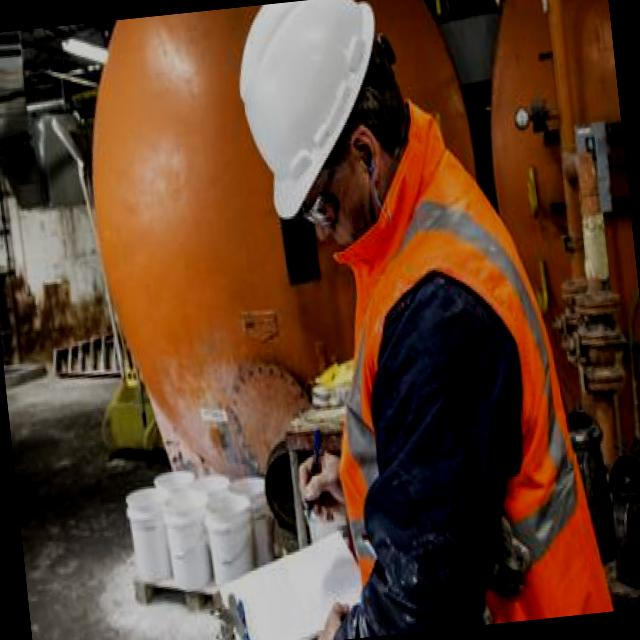helmet: (213, 0, 409, 219)
vest: (318, 136, 612, 636)
